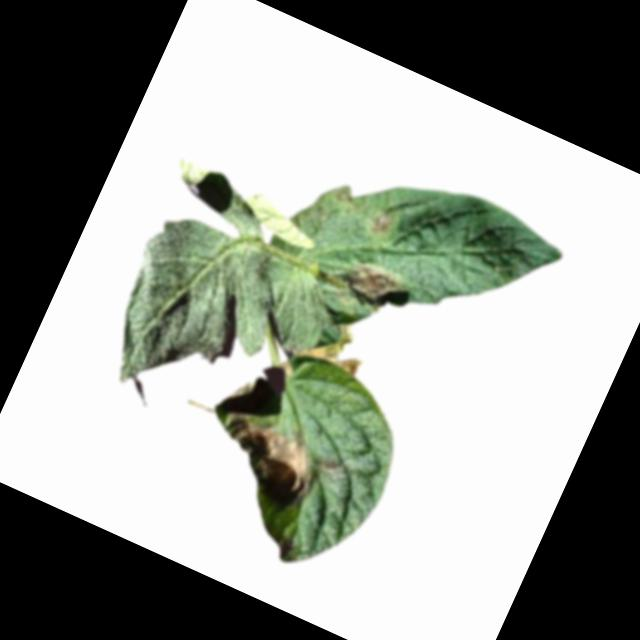Late_blight: (208, 404, 330, 507), (289, 306, 376, 383), (337, 254, 409, 316), (364, 208, 398, 242)
